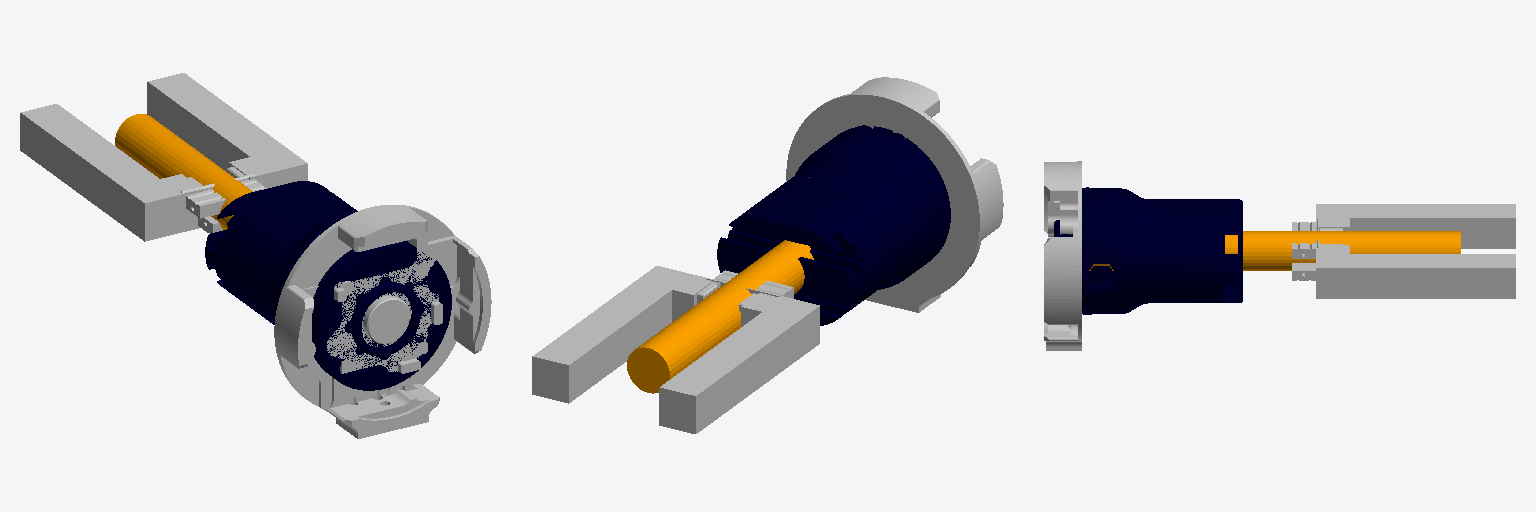
The robot description file, URDF, robot "steripack_robot":
<?xml version="1.0" ?>
<!-- =================================================================================== -->
<!-- |    This document was autogenerated by xacro from [local-path]/mojer/catkin_ws/src/acroba_ros/acroba_resources/urdf/steripack_multitool_robot.xacro | -->
<!-- |    EDITING THIS FILE BY HAND IS NOT RECOMMENDED                                 | -->
<!-- =================================================================================== -->
<robot name="steripack_robot">
  <link name="base_link">
    <visual>
      <geometry>
        <mesh filename="package://acroba_resources/meshes/ur10/visual/base.dae"/>
      </geometry>
      <material name="LightGrey">
        <color rgba="0.7 0.7 0.7 1.0"/>
      </material>
    </visual>
    <collision>
      <geometry>
        <mesh filename="package://acroba_resources/meshes/ur10/collision/base.stl"/>
      </geometry>
    </collision>
    <inertial>
      <mass value="4.0"/>
      <origin rpy="0 0 0" xyz="0.0 0.0 0.0"/>
      <inertia ixx="0.0061063308908" ixy="0.0" ixz="0.0" iyy="0.0061063308908" iyz="0.0" izz="0.01125"/>
    </inertial>
  </link>
  <joint name="shoulder_pan_joint" type="revolute">
    <parent link="base_link"/>
    <child link="shoulder_link"/>
    <origin rpy="0.0 0.0 0.0" xyz="0.0 0.0 0.1273"/>
    <axis xyz="0 0 1"/>
    <limit effort="330.0" lower="-6.283185307179586" upper="6.283185307179586" velocity="2.16"/>
    <dynamics damping="0.0" friction="0.0"/>
  </joint>
  <link name="shoulder_link">
    <visual>
      <geometry>
        <mesh filename="package://acroba_resources/meshes/ur10/visual/shoulder.dae"/>
      </geometry>
      <material name="LightGrey">
        <color rgba="0.7 0.7 0.7 1.0"/>
      </material>
    </visual>
    <collision>
      <geometry>
        <mesh filename="package://acroba_resources/meshes/ur10/collision/shoulder.stl"/>
      </geometry>
    </collision>
    <inertial>
      <mass value="7.778"/>
      <origin rpy="0 0 0" xyz="0.0 0.0 0.0"/>
      <inertia ixx="0.03147431257693659" ixy="0.0" ixz="0.0" iyy="0.03147431257693659" iyz="0.0" izz="0.021875624999999996"/>
    </inertial>
  </link>
  <joint name="shoulder_lift_joint" type="revolute">
    <parent link="shoulder_link"/>
    <child link="upper_arm_link"/>
    <origin rpy="0.0 1.5707963267948966 0.0" xyz="0.0 0.220941 0.0"/>
    <axis xyz="0 1 0"/>
    <limit effort="330.0" lower="-6.283185307179586" upper="6.283185307179586" velocity="2.16"/>
    <dynamics damping="0.0" friction="0.0"/>
  </joint>
  <link name="upper_arm_link">
    <visual>
      <geometry>
        <mesh filename="package://acroba_resources/meshes/ur10/visual/upperarm.dae"/>
      </geometry>
      <material name="LightGrey">
        <color rgba="0.7 0.7 0.7 1.0"/>
      </material>
    </visual>
    <collision>
      <geometry>
        <mesh filename="package://acroba_resources/meshes/ur10/collision/upperarm.stl"/>
      </geometry>
    </collision>
    <inertial>
      <mass value="12.93"/>
      <origin rpy="0 0 0" xyz="0.0 -0.045 0.306"/>
      <inertia ixx="0.42175380379841093" ixy="0.0" ixz="0.0" iyy="0.42175380379841093" iyz="0.0" izz="0.03636562499999999"/>
    </inertial>
  </link>
  <joint name="elbow_joint" type="revolute">
    <parent link="upper_arm_link"/>
    <child link="forearm_link"/>
    <origin rpy="0.0 0.0 0.0" xyz="0.0 -0.1719 0.612"/>
    <axis xyz="0 1 0"/>
    <limit effort="150.0" lower="-3.141592653589793" upper="3.141592653589793" velocity="3.15"/>
    <dynamics damping="0.0" friction="0.0"/>
  </joint>
  <link name="forearm_link">
    <visual>
      <geometry>
        <mesh filename="package://acroba_resources/meshes/ur10/visual/forearm.dae"/>
      </geometry>
      <material name="LightGrey">
        <color rgba="0.7 0.7 0.7 1.0"/>
      </material>
    </visual>
    <collision>
      <geometry>
        <mesh filename="package://acroba_resources/meshes/ur10/collision/forearm.stl"/>
      </geometry>
    </collision>
    <inertial>
      <mass value="3.87"/>
      <origin rpy="0 0 0" xyz="0.0 0.0 0.28615"/>
      <inertia ixx="0.11106969409710458" ixy="0.0" ixz="0.0" iyy="0.11106969409710458" iyz="0.0" izz="0.010884375"/>
    </inertial>
  </link>
  <joint name="wrist_1_joint" type="revolute">
    <parent link="forearm_link"/>
    <child link="wrist_1_link"/>
    <origin rpy="0.0 1.5707963267948966 0.0" xyz="0.0 0.0 0.5723"/>
    <axis xyz="0 1 0"/>
    <limit effort="54.0" lower="-6.283185307179586" upper="6.283185307179586" velocity="3.2"/>
    <dynamics damping="0.0" friction="0.0"/>
  </joint>
  <link name="wrist_1_link">
    <visual>
      <geometry>
        <mesh filename="package://acroba_resources/meshes/ur10/visual/wrist1.dae"/>
      </geometry>
      <material name="LightGrey">
        <color rgba="0.7 0.7 0.7 1.0"/>
      </material>
    </visual>
    <collision>
      <geometry>
        <mesh filename="package://acroba_resources/meshes/ur10/collision/wrist1.stl"/>
      </geometry>
    </collision>
    <inertial>
      <mass value="1.96"/>
      <origin rpy="0 0 0" xyz="0.0 0.1149 0.0"/>
      <inertia ixx="0.005108247956699999" ixy="0.0" ixz="0.0" iyy="0.005108247956699999" iyz="0.0" izz="0.005512499999999999"/>
    </inertial>
  </link>
  <joint name="wrist_2_joint" type="revolute">
    <parent link="wrist_1_link"/>
    <child link="wrist_2_link"/>
    <origin rpy="0.0 0.0 0.0" xyz="0.0 0.1149 0.0"/>
    <axis xyz="0 0 1"/>
    <limit effort="54.0" lower="-6.283185307179586" upper="6.283185307179586" velocity="3.2"/>
    <dynamics damping="0.0" friction="0.0"/>
  </joint>
  <link name="wrist_2_link">
    <visual>
      <geometry>
        <mesh filename="package://acroba_resources/meshes/ur10/visual/wrist2.dae"/>
      </geometry>
      <material name="LightGrey">
        <color rgba="0.7 0.7 0.7 1.0"/>
      </material>
    </visual>
    <collision>
      <geometry>
        <mesh filename="package://acroba_resources/meshes/ur10/collision/wrist2.stl"/>
      </geometry>
    </collision>
    <inertial>
      <mass value="1.96"/>
      <origin rpy="0 0 0" xyz="0.0 0.0 0.1157"/>
      <inertia ixx="0.005108247956699999" ixy="0.0" ixz="0.0" iyy="0.005108247956699999" iyz="0.0" izz="0.005512499999999999"/>
    </inertial>
  </link>
  <joint name="wrist_3_joint" type="revolute">
    <parent link="wrist_2_link"/>
    <child link="wrist_3_link"/>
    <origin rpy="0.0 0.0 0.0" xyz="0.0 0.0 0.1157"/>
    <axis xyz="0 1 0"/>
    <limit effort="54.0" lower="-6.283185307179586" upper="6.283185307179586" velocity="3.2"/>
    <dynamics damping="0.0" friction="0.0"/>
  </joint>
  <link name="wrist_3_link">
    <visual>
      <geometry>
        <mesh filename="package://acroba_resources/meshes/ur10/visual/wrist3.dae"/>
      </geometry>
      <material name="LightGrey">
        <color rgba="0.7 0.7 0.7 1.0"/>
      </material>
    </visual>
    <collision>
      <geometry>
        <mesh filename="package://acroba_resources/meshes/ur10/collision/wrist3.stl"/>
      </geometry>
    </collision>
    <inertial>
      <mass value="0.202"/>
      <origin rpy="1.5707963267948966 0 0" xyz="0.0 0.07695 0.0"/>
      <inertia ixx="0.00011792166116465" ixy="0.0" ixz="0.0" iyy="0.00011792166116465" iyz="0.0" izz="0.00020452500000000002"/>
    </inertial>
  </link>
  <joint name="ee_fixed_joint" type="fixed">
    <parent link="wrist_3_link"/>
    <child link="ee_link"/>
    <origin rpy="0.0 0.0 1.5707963267948966" xyz="0.0 0.0922 0.0"/>
  </joint>
  <link name="ee_link">
    <collision>
      <geometry>
        <box size="0.01 0.01 0.01"/>
      </geometry>
      <origin rpy="0 0 0" xyz="-0.01 0 0"/>
    </collision>
  </link>
  <transmission name="shoulder_pan_trans">
    <type>transmission_interface/SimpleTransmission</type>
    <joint name="shoulder_pan_joint">
      <hardwareInterface>hardware_interface/PositionJointInterface</hardwareInterface>
    </joint>
    <actuator name="shoulder_pan_motor">
      <mechanicalReduction>1</mechanicalReduction>
    </actuator>
  </transmission>
  <transmission name="shoulder_lift_trans">
    <type>transmission_interface/SimpleTransmission</type>
    <joint name="shoulder_lift_joint">
      <hardwareInterface>hardware_interface/PositionJointInterface</hardwareInterface>
    </joint>
    <actuator name="shoulder_lift_motor">
      <mechanicalReduction>1</mechanicalReduction>
    </actuator>
  </transmission>
  <transmission name="elbow_trans">
    <type>transmission_interface/SimpleTransmission</type>
    <joint name="elbow_joint">
      <hardwareInterface>hardware_interface/PositionJointInterface</hardwareInterface>
    </joint>
    <actuator name="elbow_motor">
      <mechanicalReduction>1</mechanicalReduction>
    </actuator>
  </transmission>
  <transmission name="wrist_1_trans">
    <type>transmission_interface/SimpleTransmission</type>
    <joint name="wrist_1_joint">
      <hardwareInterface>hardware_interface/PositionJointInterface</hardwareInterface>
    </joint>
    <actuator name="wrist_1_motor">
      <mechanicalReduction>1</mechanicalReduction>
    </actuator>
  </transmission>
  <transmission name="wrist_2_trans">
    <type>transmission_interface/SimpleTransmission</type>
    <joint name="wrist_2_joint">
      <hardwareInterface>hardware_interface/PositionJointInterface</hardwareInterface>
    </joint>
    <actuator name="wrist_2_motor">
      <mechanicalReduction>1</mechanicalReduction>
    </actuator>
  </transmission>
  <transmission name="wrist_3_trans">
    <type>transmission_interface/SimpleTransmission</type>
    <joint name="wrist_3_joint">
      <hardwareInterface>hardware_interface/PositionJointInterface</hardwareInterface>
    </joint>
    <actuator name="wrist_3_motor">
      <mechanicalReduction>1</mechanicalReduction>
    </actuator>
  </transmission>
  <gazebo reference="shoulder_link">
    <selfCollide>true</selfCollide>
  </gazebo>
  <gazebo reference="upper_arm_link">
    <selfCollide>true</selfCollide>
  </gazebo>
  <gazebo reference="forearm_link">
    <selfCollide>true</selfCollide>
  </gazebo>
  <gazebo reference="wrist_1_link">
    <selfCollide>true</selfCollide>
  </gazebo>
  <gazebo reference="wrist_3_link">
    <selfCollide>true</selfCollide>
  </gazebo>
  <gazebo reference="wrist_2_link">
    <selfCollide>true</selfCollide>
  </gazebo>
  <gazebo reference="ee_link">
    <selfCollide>true</selfCollide>
  </gazebo>
  <!-- ROS base_link to UR 'Base' Coordinates transform -->
  <link name="base"/>
  <joint name="base_link-base_fixed_joint" type="fixed">
    <!-- NOTE: this rotation is only needed as long as base_link itself is
                 not corrected wrt the real robot (ie: rotated over 180
                 degrees)
      -->
    <origin rpy="0 0 -3.141592653589793" xyz="0 0 0"/>
    <parent link="base_link"/>
    <child link="base"/>
  </joint>
  <!-- Frame coincident with all-zeros TCP on UR controller -->
  <link name="tool0"/>
  <joint name="wrist_3_link-tool0_fixed_joint" type="fixed">
    <origin rpy="-1.5707963267948966 0 0" xyz="0 0.0922 0"/>
    <parent link="wrist_3_link"/>
    <child link="tool0"/>
  </joint>
  <material name="schunk_dark_grey">
    <color rgba="0.3 0.3 0.3 1.0"/>
  </material>
  <material name="schunk_grey">
    <color rgba="0.8 0.8 0.8 1.0"/>
  </material>
  <material name="schunk_blue">
    <color rgba="0. 0. 0.2 1.0"/>
  </material>
  <link name="base_tool"/>
  <link name="tool_adaptor">
    <visual>
      <origin rpy="0 0 0" xyz="0 0 0.0"/>
      <geometry>
        <mesh filename="package://acroba_resources/meshes/schunk_EGP40/base.stl" scale="0.001 0.001 0.001"/>
      </geometry>
      <material name="schunk_grey"/>
    </visual>
    <collision>
      <origin rpy="0 0 0" xyz="0 0 -0.0015"/>
      <geometry>
        <cylinder length="0.019" radius="0.045"/>
      </geometry>
    </collision>
  </link>
  <link name="tool_body">
    <visual>
      <origin rpy="0 0 0" xyz="0 0 0.0"/>
      <geometry>
        <mesh filename="package://acroba_resources/meshes/schunk_EGP40/body.stl" scale="0.001 0.001 0.001"/>
      </geometry>
      <material name="schunk_blue"/>
    </visual>
    <collision>
      <origin rpy="0 0 0" xyz="0 0 0.0"/>
      <geometry>
        <mesh filename="package://acroba_resources/meshes/schunk_EGP40/body_convex.stl" scale="0.001 0.001 0.001"/>
      </geometry>
    </collision>
  </link>
  <link name="left_finger">
    <visual>
      <origin rpy="0 0 0" xyz="0 0 0.0"/>
      <geometry>
        <mesh filename="package://acroba_resources/meshes/schunk_EGP40/finger_1.stl" scale="0.001 0.001 0.001"/>
      </geometry>
      <material name="schunk_grey"/>
    </visual>
    <collision>
      <origin rpy="0 0 0" xyz="-0.011 0 0.1325"/>
      <geometry>
        <box size="0.006 0.017 0.017"/>
      </geometry>
    </collision>
  </link>
  <link name="right_finger">
    <visual>
      <origin rpy="0 0 0" xyz="0 0 0.0"/>
      <geometry>
        <mesh filename="package://acroba_resources/meshes/schunk_EGP40/finger_2.stl" scale="0.001 0.001 0.001"/>
      </geometry>
      <material name="schunk_grey"/>
    </visual>
    <collision>
      <origin rpy="0 0 0" xyz="0.011 0 0.1325"/>
      <geometry>
        <box size="0.006 0.017 0.017"/>
      </geometry>
    </collision>
  </link>
  <joint name="_tool_base_adaptor" type="fixed">
    <origin rpy="0 0 0" xyz="0 0 0.0"/>
    <parent link="base_tool"/>
    <child link="tool_adaptor"/>
  </joint>
  <joint name="_tool_adaptor_body" type="fixed">
    <origin rpy="0 0 0" xyz="0 0 0.0"/>
    <parent link="tool_adaptor"/>
    <child link="tool_body"/>
  </joint>
  <joint name="_left_joint" type="prismatic">
    <origin rpy="0 0 0" xyz="0 0 0.0"/>
    <parent link="tool_body"/>
    <child link="left_finger"/>
    <axis xyz="1 0 0"/>
    <limit effort="215" lower="0" upper="0.006" velocity="10"/>
  </joint>
  <joint name="_right_joint" type="prismatic">
    <origin rpy="0 0 0" xyz="0 0 0.0"/>
    <parent link="tool_body"/>
    <child link="right_finger"/>
    <axis xyz="-1 0 0"/>
    <limit effort="215" lower="0" upper="0.006" velocity="10"/>
  </joint>
  <link name="tool_tip"/>
  <joint name="_end_tool" type="fixed">
    <origin rpy="0 0 0" xyz="0 0 0.136"/>
    <parent link="tool_body"/>
    <child link="tool_tip"/>
  </joint>
  <link name="right_extension">
    <visual>
      <origin rpy="0 0 0" xyz="0.016 0 0.136"/>
      <geometry>
        <box size="0.01 0.017 0.017"/>
      </geometry>
      <material name="schunk_grey"/>
    </visual>
    <visual>
      <origin rpy="0 0 0" xyz="0.0295 0 0.1775"/>
      <geometry>
        <box size="0.017 0.017 0.1"/>
      </geometry>
      <material name="schunk_grey"/>
    </visual>
    <collision>
      <origin rpy="0 0 0" xyz="0.016 0 0.136"/>
      <geometry>
        <box size="0.01 0.017 0.017"/>
      </geometry>
    </collision>
    <collision>
      <origin rpy="0 0 0" xyz="0.0295 0 0.1775"/>
      <geometry>
        <box size="0.017 0.017 0.1"/>
      </geometry>
    </collision>
  </link>
  <link name="left_extension">
    <visual>
      <origin rpy="0 0 0" xyz="-0.016 0 0.136"/>
      <geometry>
        <box size="0.01 0.017 0.017"/>
      </geometry>
      <material name="schunk_grey"/>
    </visual>
    <visual>
      <origin rpy="0 0 0" xyz="-0.0295 0 0.1775"/>
      <geometry>
        <box size="0.017 0.017 0.1"/>
      </geometry>
      <material name="schunk_grey"/>
    </visual>
    <collision>
      <origin rpy="0 0 0" xyz="-0.016 0 0.136"/>
      <geometry>
        <box size="0.01 0.017 0.017"/>
      </geometry>
    </collision>
    <collision>
      <origin rpy="0 0 0" xyz="-0.0295 0 0.1775"/>
      <geometry>
        <box size="0.017 0.017 0.1"/>
      </geometry>
    </collision>
  </link>
  <joint name="extension_joint_right" type="fixed">
    <origin rpy="0.0 0.0 0.0" xyz="0.0 0.0 0.0"/>
    <parent link="right_finger"/>
    <child link="right_extension"/>
  </joint>
  <joint name="extension_joint_left" type="fixed">
    <origin rpy="0.0 0.0 0.0" xyz="0.0 0.0 0.0"/>
    <parent link="left_finger"/>
    <child link="left_extension"/>
  </joint>
  <link name="end_tool"/>
  <joint name="joint_tip_end" type="fixed">
    <origin rpy="0.0 0.0 0.0" xyz="0.0 0.0 0.0915"/>
    <parent link="tool_tip"/>
    <child link="end_tool"/>
  </joint>
  <link name="world"/>
  <joint name="world_joint" type="fixed">
    <parent link="world"/>
    <child link="base_link"/>
    <origin xyz= "-0.77700001001358 0 0.823000013828278" rpy= "0 0 0"/>
  </joint>
  <link name="common_tool"/>
  <joint name="common_tool_joint" type="fixed">
    <parent link="tool0"/>
    <child link="common_tool"/>
    <origin rpy="0.0 0.0 0.0" xyz="0.0 0.0 0.0"/>
  </joint>
  <joint name="tool_joint1" type="fixed">
    <parent link="common_tool"/>
    <child link="base_tool"/>
    <origin rpy="0.0 0.0 0.0" xyz="0.0 0.0 0.0"/>
  </joint>
  <link name="tool_drill">
    <visual>
      <origin rpy="0 0 0" xyz="0 0 0.1"/>
      <geometry>
        <cylinder length="0.2" radius="0.01"/>
      </geometry>
      <material name="drill_color">
        <color rgba="1 0.64 0.0 1.0"/>
      </material>
    </visual>
    <collision>
      <origin rpy="0 0 0" xyz="0 0 0.1"/>
      <geometry>
        <cylinder length="0.2" radius="0.01"/>
      </geometry>
    </collision>
  </link>
  <joint name="tool_joint2" type="fixed">
    <parent link="common_tool"/>
    <child link="tool_drill"/>
    <origin rpy="0.0 0.0 0.0" xyz="0.0 0.0 0"/>
  </joint>
  <link name="end_drill"/>
  <joint name="joint_drill" type="fixed">
    <parent link="tool_drill"/>
    <child link="end_drill"/>
    <origin rpy="0.0 0.0 0.0" xyz="0.0 0.0 0.2"/>
  </joint>
</robot>

--- Render facts (derived) ---
3 views of the same robot in one strip: view 1: azimuth 30°, elevation 25°; view 2: azimuth 150°, elevation 25°; view 3: azimuth 270°, elevation 25° (orthographic).
Robot: steripack_robot — 23 links, 22 joints (6 revolute, 2 prismatic, 14 fixed); root link world; default pose: all joints at 0.
Links seen in each view (by area): view 1: tool_adaptor, tool_body, right_extension, left_extension, tool_drill, left_finger; view 2: tool_body, tool_adaptor, right_extension, left_extension, tool_drill, left_finger; view 3: tool_body, left_extension, tool_adaptor, right_extension, tool_drill, left_finger.
Boxes of the visible links, <box> form: tool_adaptor: <box>274,205,491,438</box>; tool_body: <box>205,181,451,390</box>; right_extension: <box>20,104,202,241</box>; left_extension: <box>147,73,307,188</box>; tool_drill: <box>115,114,289,269</box>; left_finger: <box>181,167,266,218</box>; tool_body: <box>717,125,950,325</box>; tool_adaptor: <box>786,77,1003,312</box>; right_extension: <box>659,291,819,433</box>; left_extension: <box>532,266,713,403</box>; tool_drill: <box>627,240,813,393</box>; left_finger: <box>697,270,793,303</box>; tool_body: <box>1054,187,1242,314</box>; left_extension: <box>1316,245,1515,298</box>; tool_adaptor: <box>1044,161,1081,350</box>; right_extension: <box>1316,204,1515,248</box>; tool_drill: <box>1089,231,1460,270</box>; left_finger: <box>1292,218,1342,258</box>.
Bounding box of the posed robot: 0.09 × 0.2355 × 0.092 m (x, y, z).
Meshes: 11 distinct files referenced, 4 mesh visuals loaded (4 binary STL); not drawn: 7 (reference not matched to a file when rendering).
